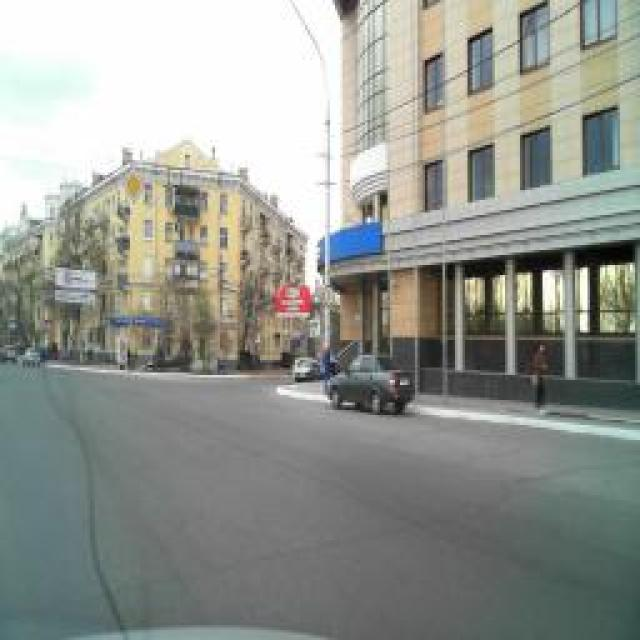sign: (323, 282, 335, 308)
